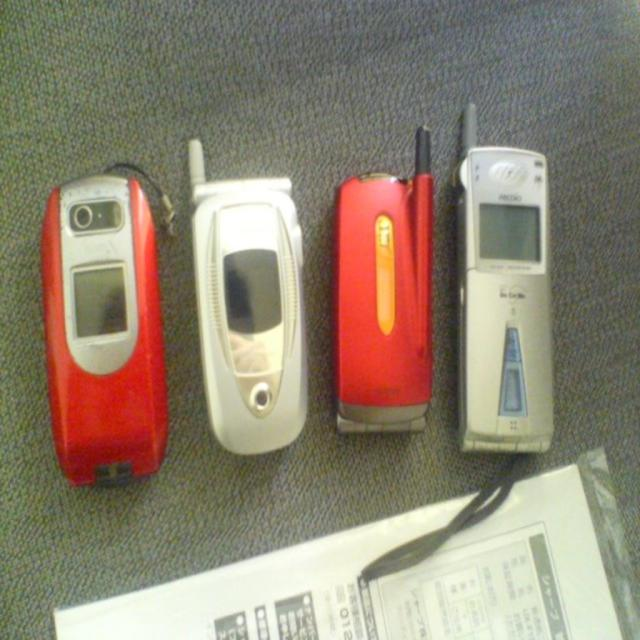Mobile-phone: (42, 156, 176, 493), (188, 141, 309, 456), (461, 101, 556, 451), (339, 121, 437, 444)
